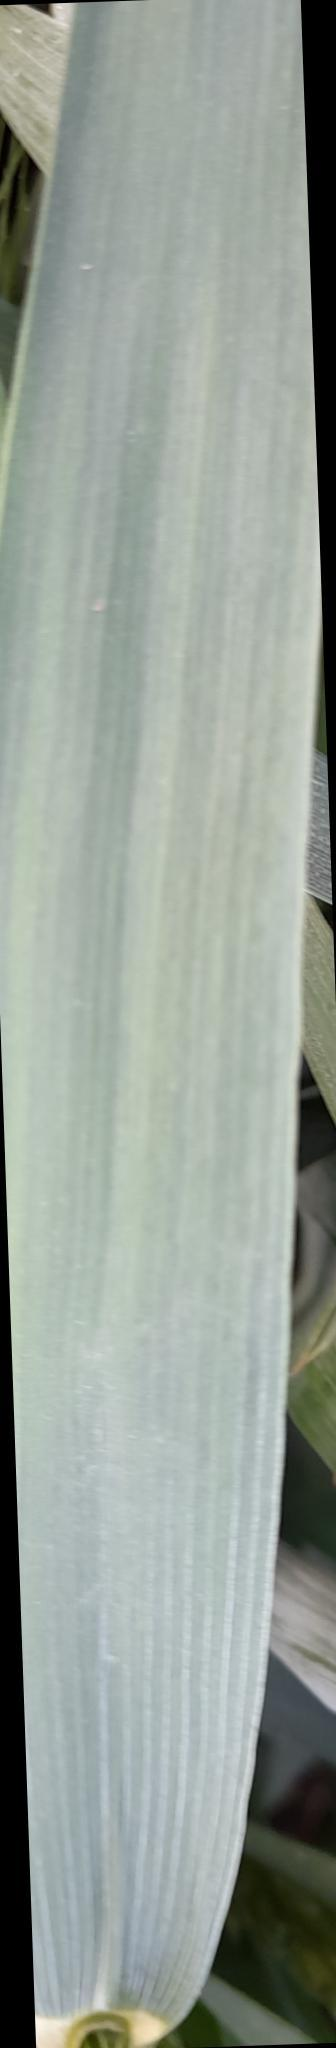Wheat: (20, 589, 269, 1196), (78, 24, 307, 547), (48, 1270, 204, 1938)
